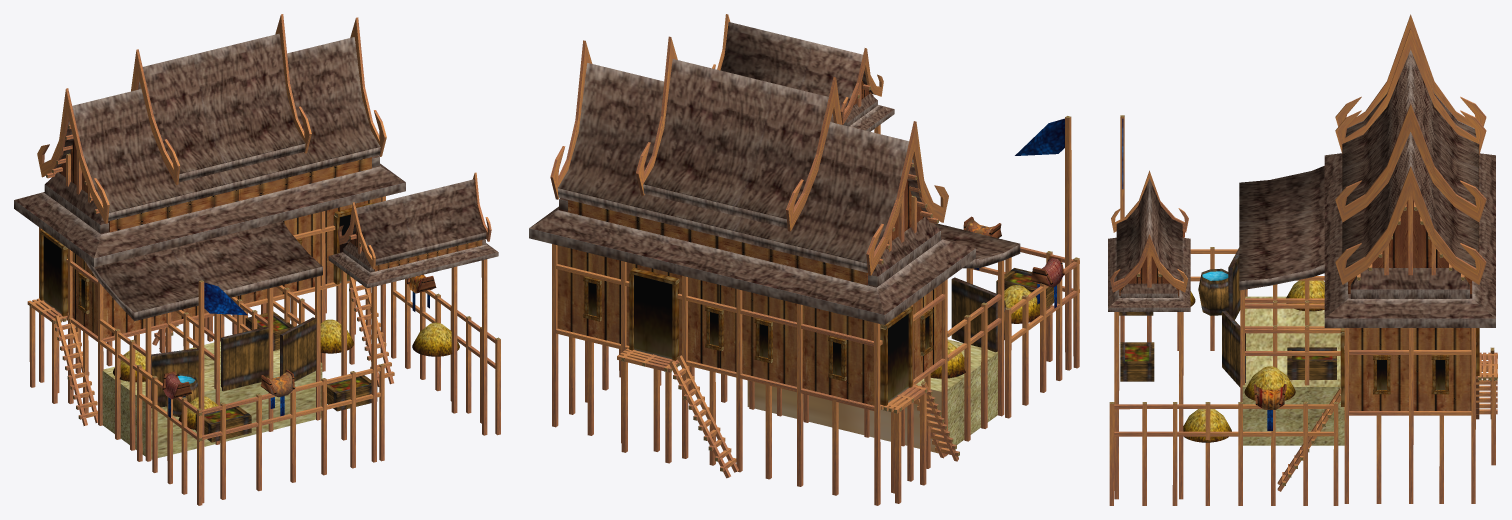
Rendered from stable.dae.
3 renders of one model, left to right at view 1: azimuth 30°, elevation 25°; view 2: azimuth 150°, elevation 25°; view 3: azimuth 270°, elevation 25°, orthographic. The views are drawn at different scales.
Parts seen in each view (by area): view 1: stable; view 2: stable; view 3: stable.
Boxes of the visible parts, <box> form: stable: <box>14,14,500,505</box>; stable: <box>529,14,1079,505</box>; stable: <box>1108,14,1497,505</box>.
Bounding box in the file's own units: 19.59 × 19.76 × 20.26.
